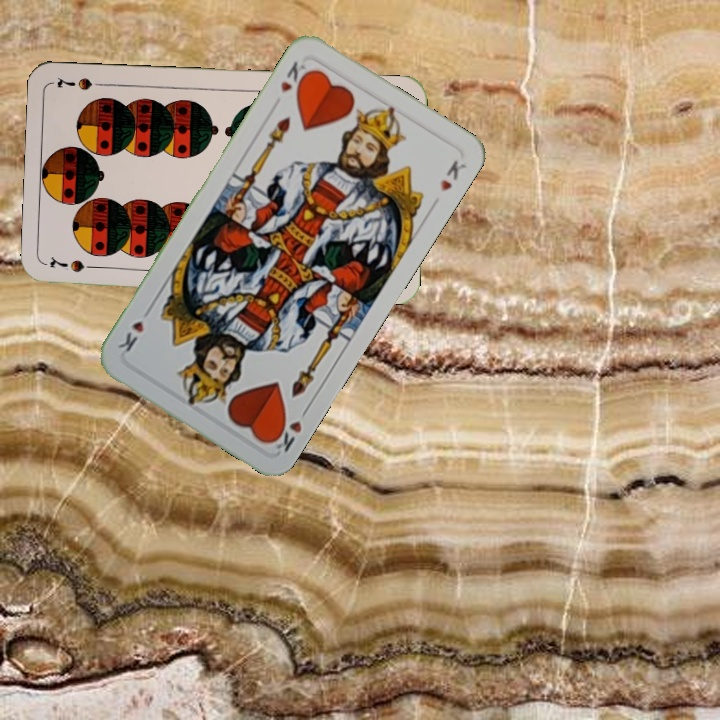HK: (265, 402, 312, 456), (276, 57, 313, 97)
S7: (46, 255, 104, 275)
